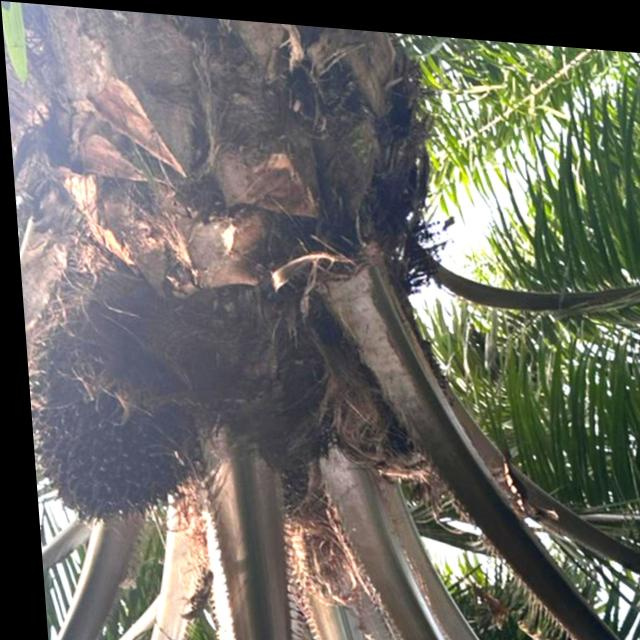unripe: (19, 331, 204, 540)
